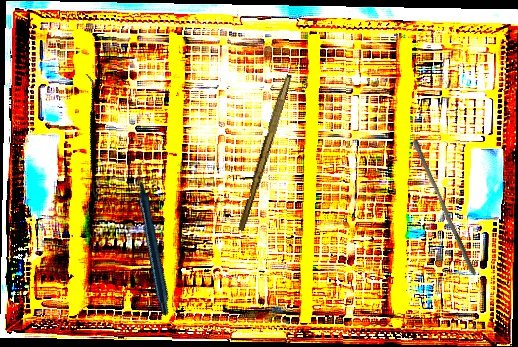Handpiece: (84, 158, 225, 317)
Pusher: (406, 138, 483, 277)
Scalpel Handle: (236, 72, 293, 233)
Spatula Surgical: (33, 72, 151, 203)
